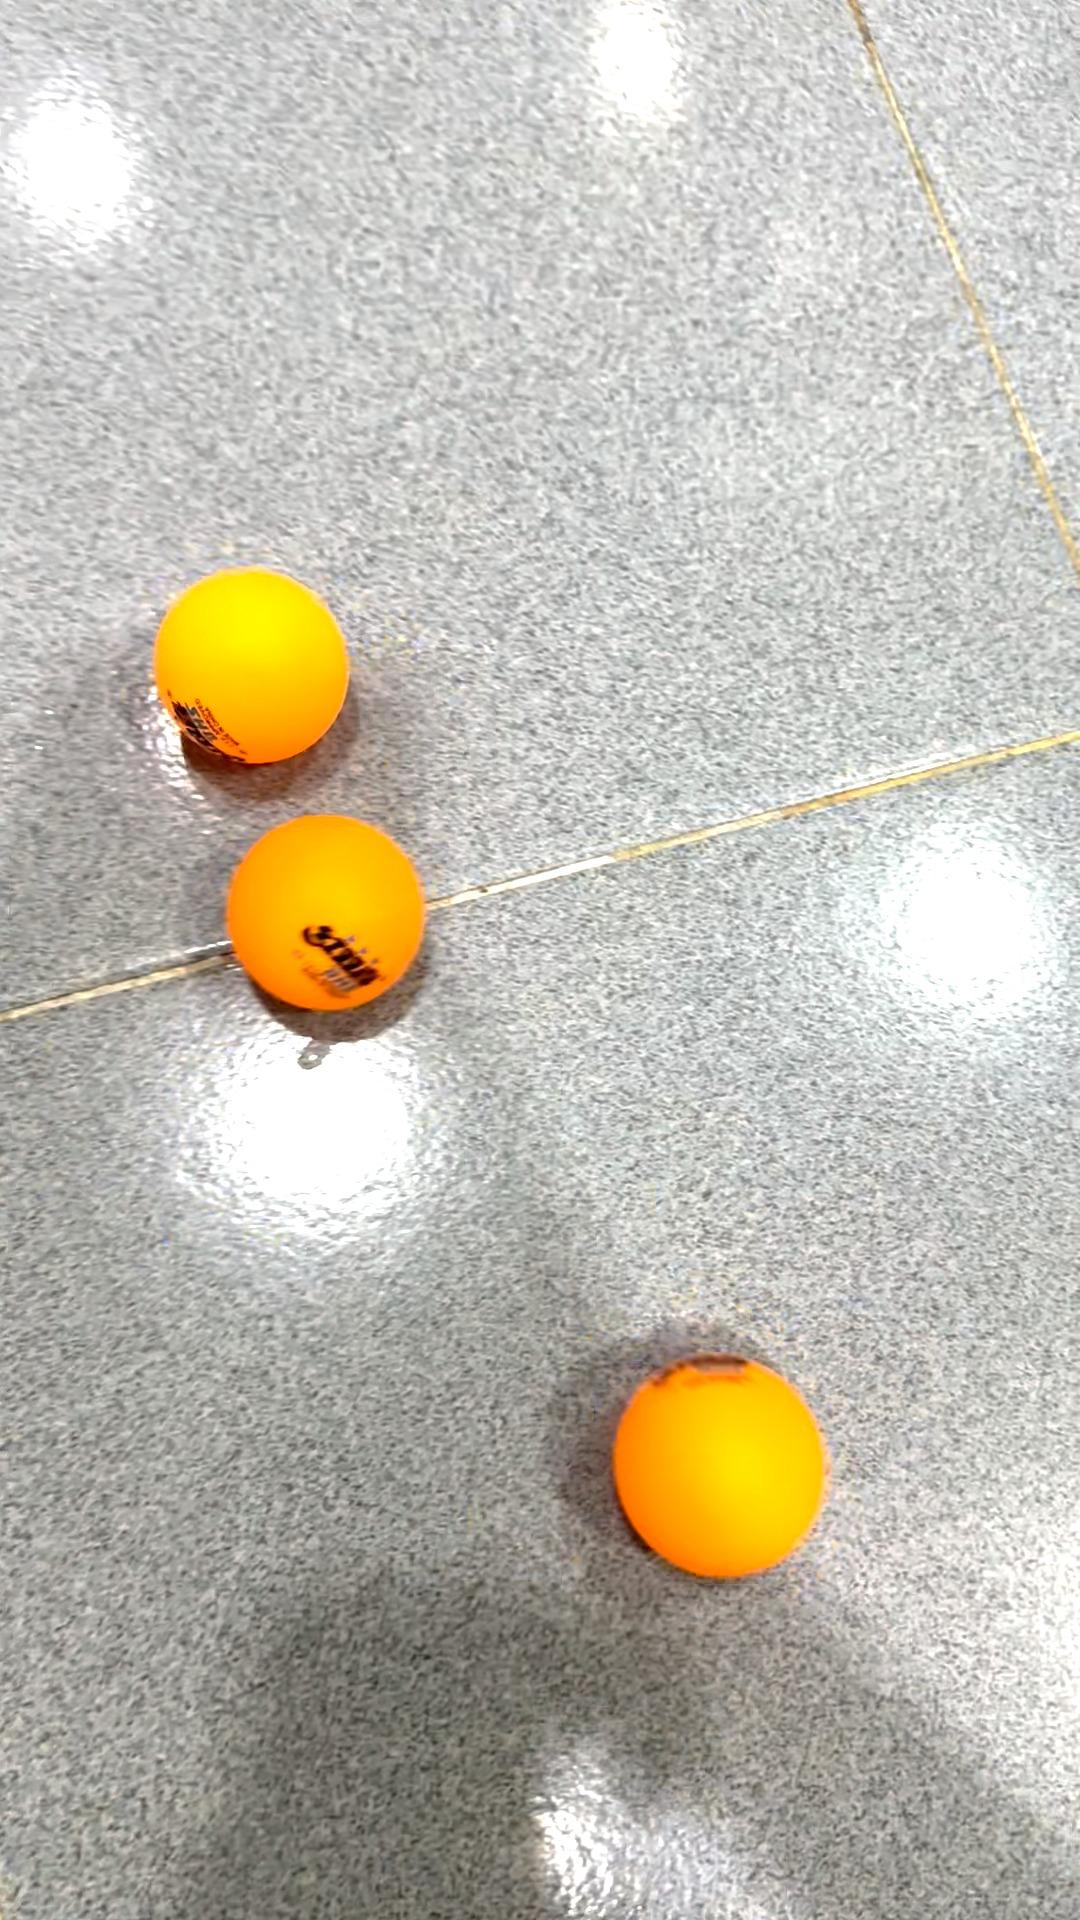oball: (608, 1348, 833, 1586), (141, 558, 371, 775), (225, 810, 438, 1026)
